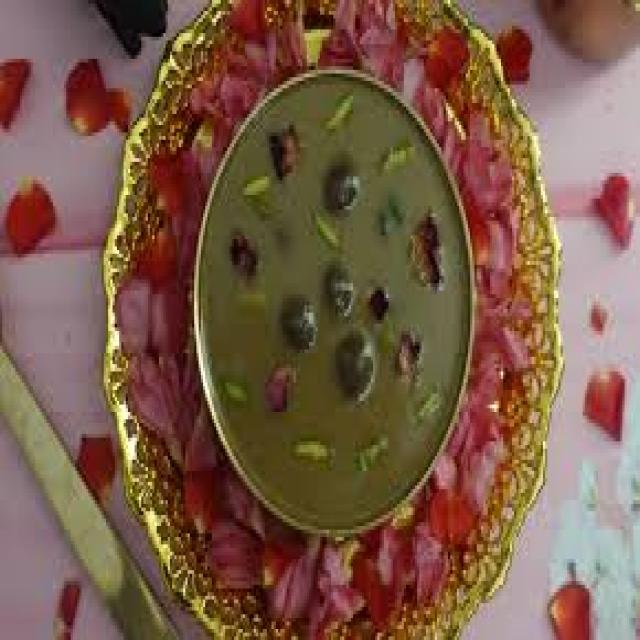paal kolukattai: (224, 95, 431, 481)
